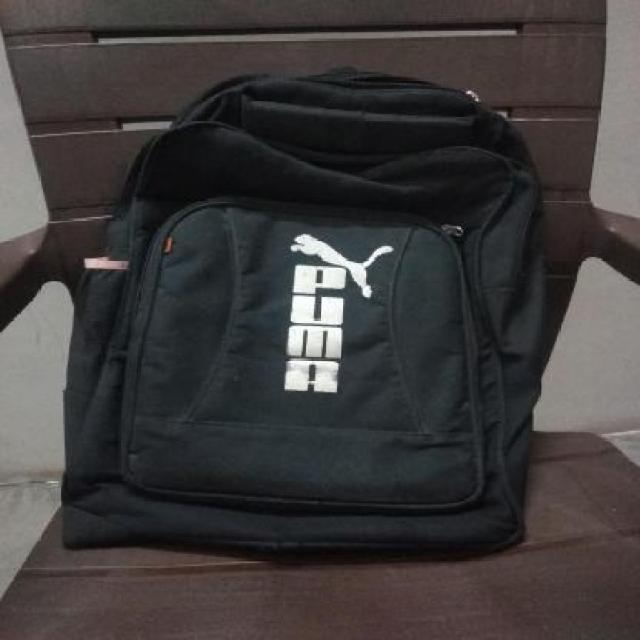backpack: (54, 60, 552, 566)
